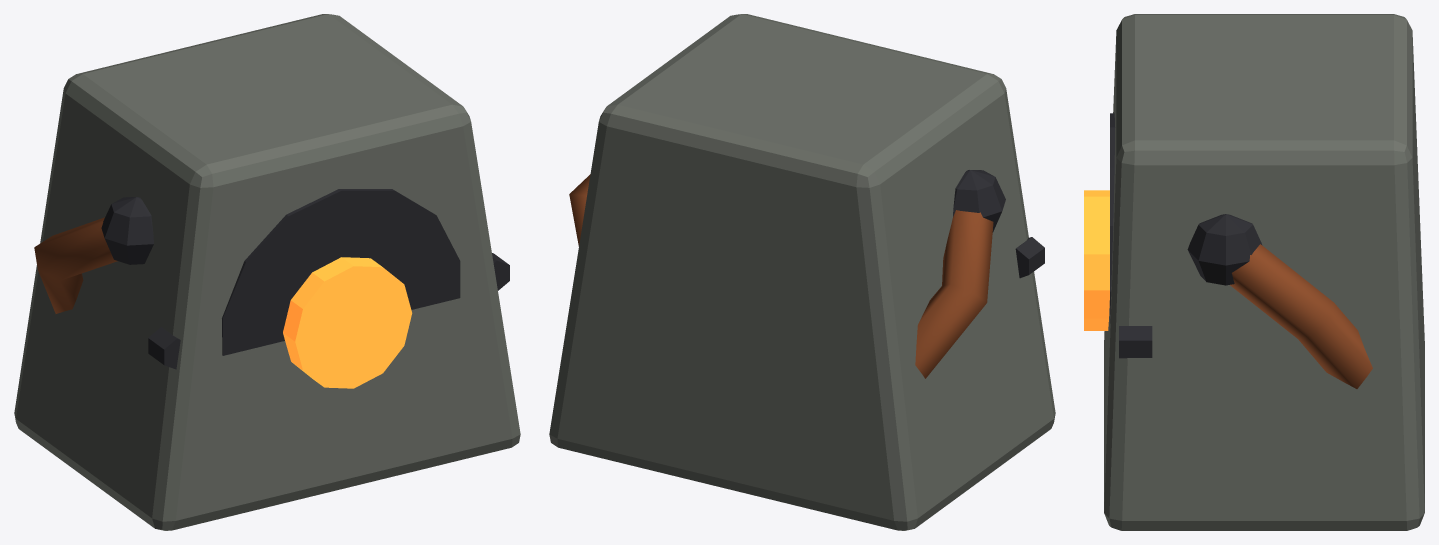
The model's file is co_furnace.glb.
3 renders of one model, left to right at view 1: azimuth 30°, elevation 25°; view 2: azimuth 150°, elevation 25°; view 3: azimuth 270°, elevation 25°, orthographic. The views are drawn at different scales.
Visible parts, largest first — view 1: co_furnace; view 2: co_furnace; view 3: co_furnace.
Part boxes in pixels (box(x1,y1,x2,y2)): co_furnace: box(14, 14, 520, 530); co_furnace: box(549, 14, 1055, 530); co_furnace: box(1084, 14, 1424, 530).
Bounding box in the file's own units: 0.167 × 0.1364 × 0.1137.
